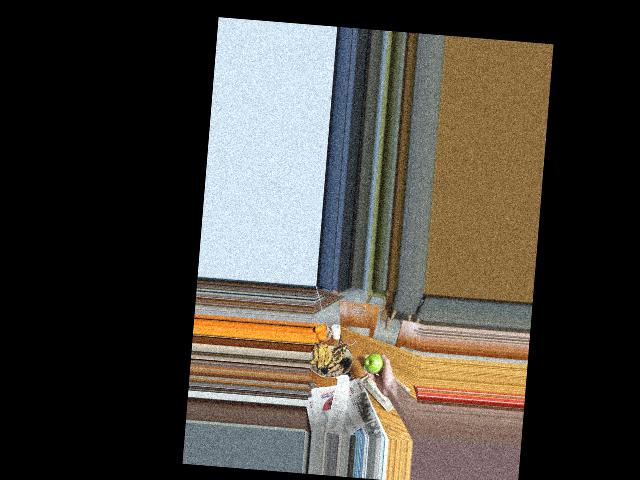apple: (365, 352, 386, 376)
